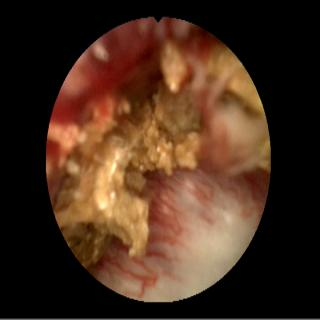stone: (55, 40, 203, 267), (205, 47, 268, 171)
tissue: (54, 20, 258, 298)
